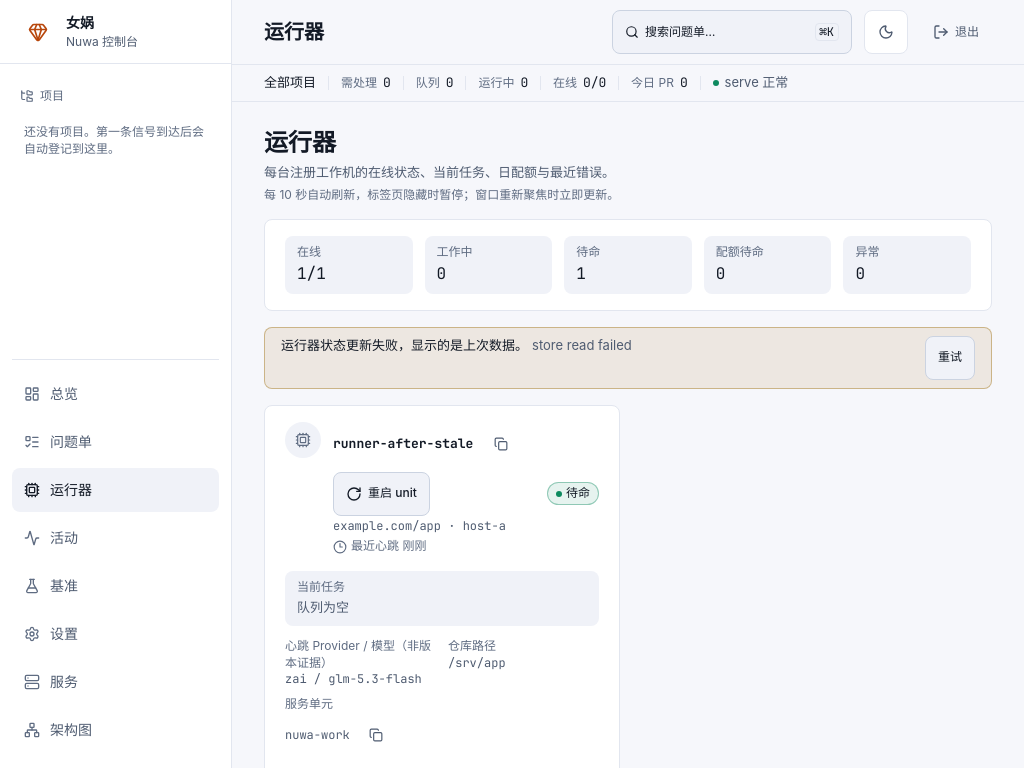
Test: RunnersPage › keeps the stale fleet visible and retries after a failed refetch
Expected: the text "运行器状态更新失败，显示的是上次数据。" is shown, [281,337,528,353]
Click the button "重试" at (950, 358), box [925,336,975,380]
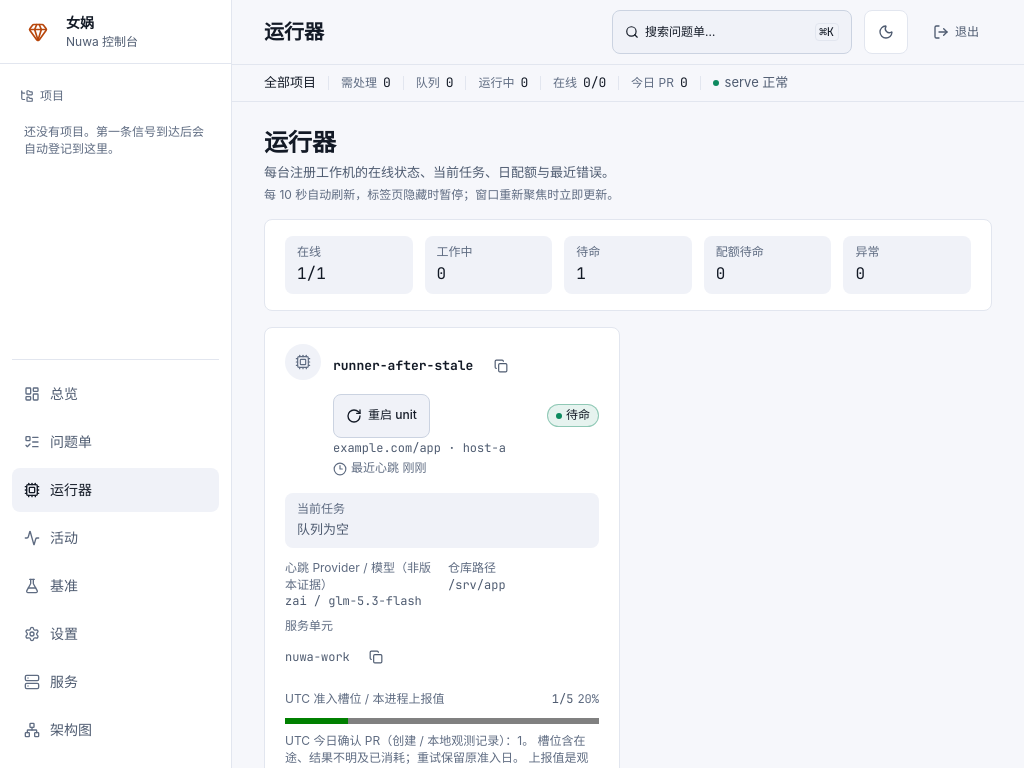
Now the text "运行器状态更新失败，显示的是上次数据。" is gone
